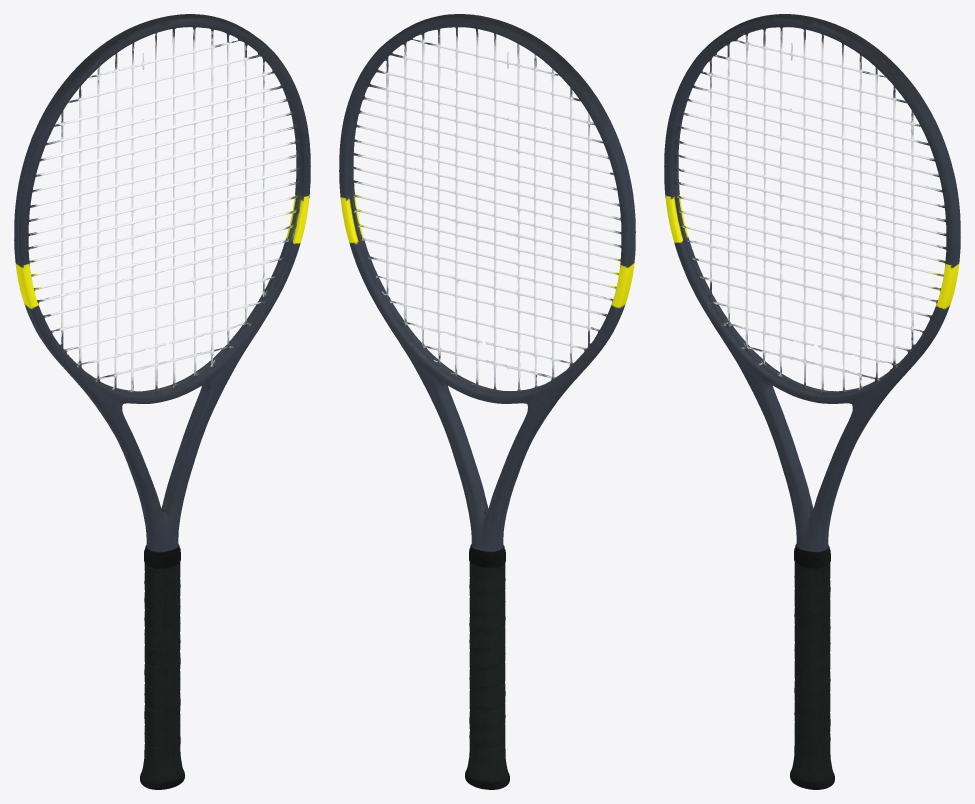
File: racket.glb
3 views of the same model, side by side, from view 1: azimuth 30°, elevation 25°; view 2: azimuth 150°, elevation 25°; view 3: azimuth 330°, elevation 25° (orthographic).
Size of the model in its own units: 0.756 by 1.9 by 0.0846.
Materials: 1 (1 with a texture image).
